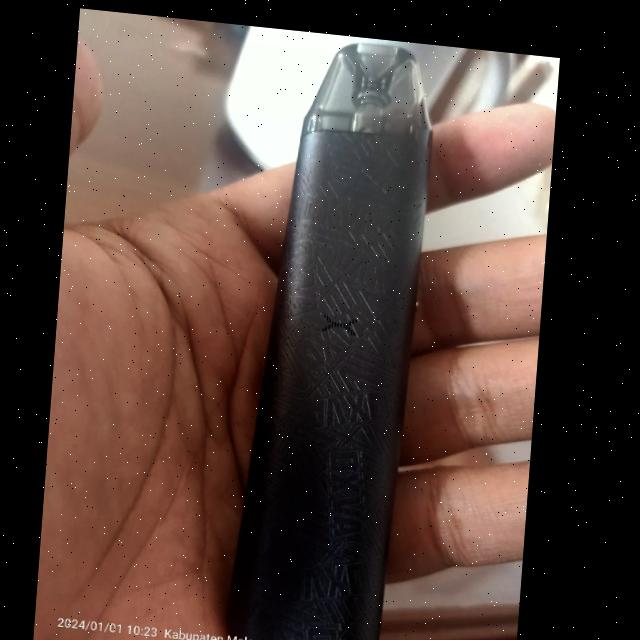vape: (225, 23, 440, 640)
